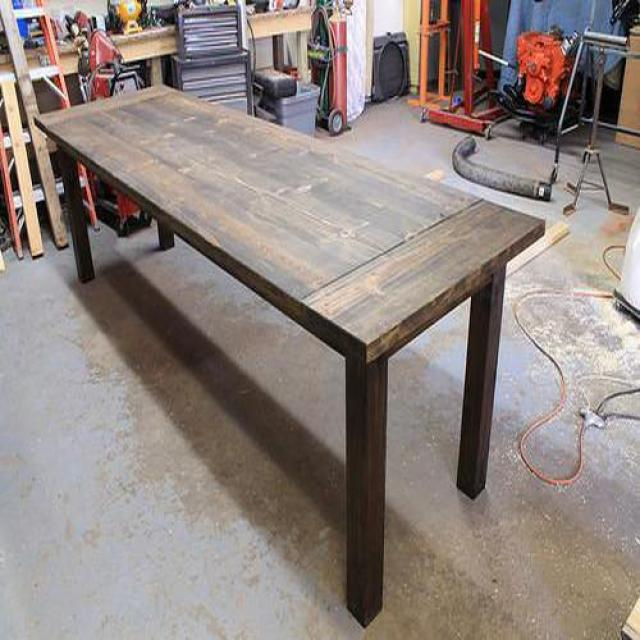table: (33, 86, 547, 630)
